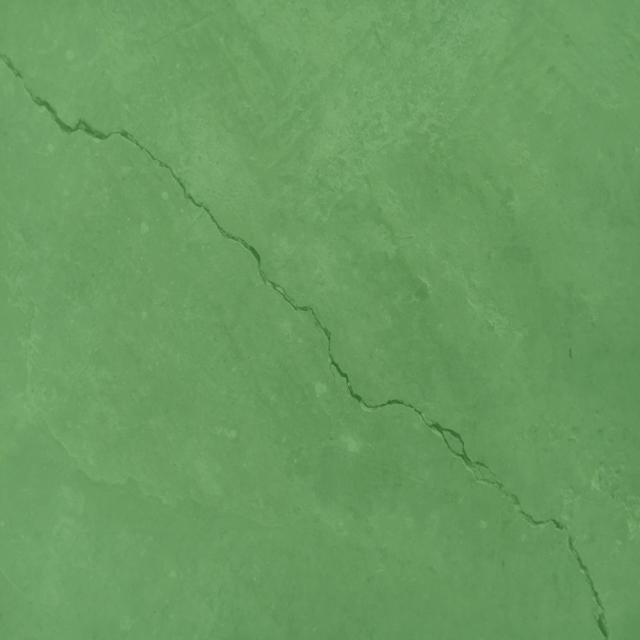crack: (0, 52, 609, 639)
